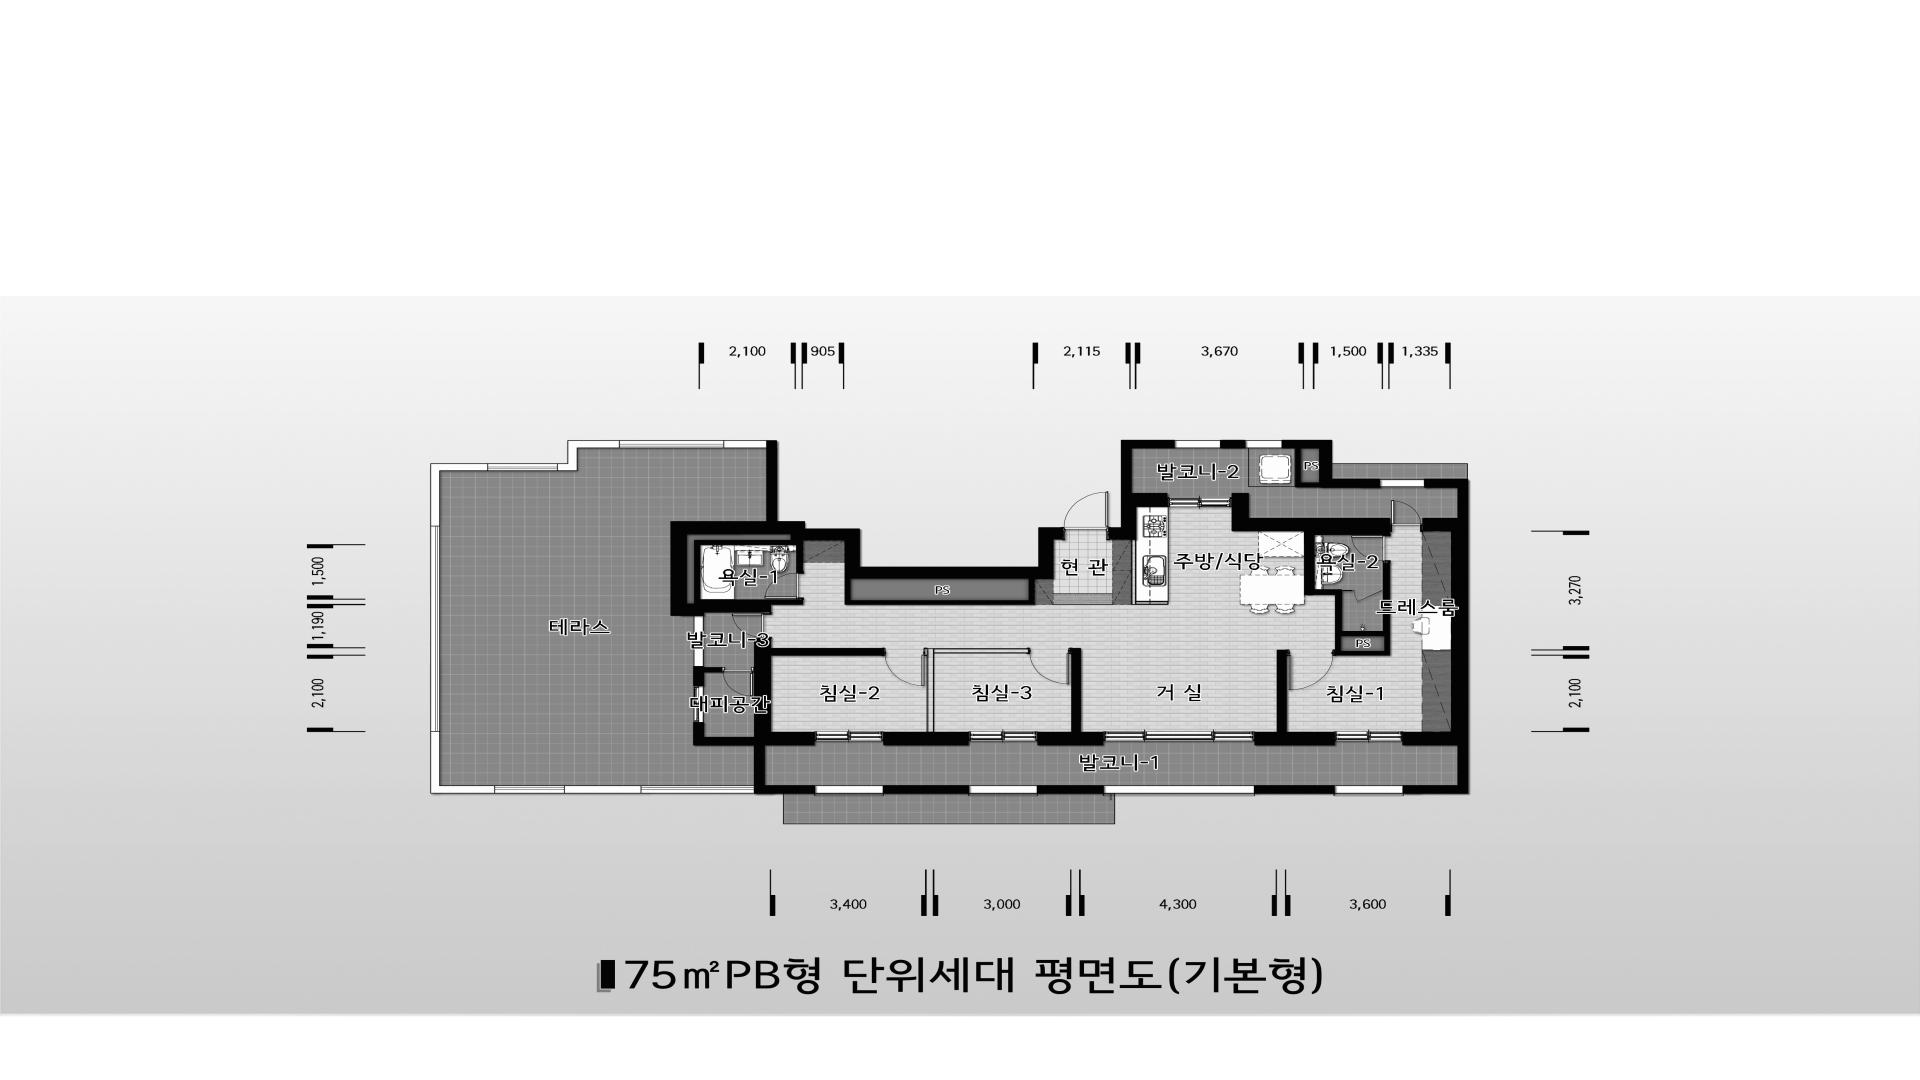door: (1062, 491, 1108, 539), (1287, 650, 1334, 690), (884, 647, 927, 686), (1028, 647, 1071, 686), (732, 612, 772, 639), (764, 573, 803, 599), (1391, 500, 1422, 532), (1351, 535, 1389, 561), (721, 667, 754, 696)
wall: (670, 521, 1062, 616), (1231, 492, 1391, 656), (1403, 478, 1468, 794), (883, 648, 1028, 746), (753, 639, 884, 737), (1403, 518, 1457, 746), (693, 722, 815, 794), (694, 539, 803, 613), (1255, 649, 1335, 746), (1108, 440, 1174, 539), (1037, 648, 1103, 746), (844, 578, 1035, 605), (1282, 440, 1380, 488), (1131, 539, 1169, 605), (1294, 448, 1319, 488), (883, 785, 969, 794), (1254, 785, 1334, 794), (765, 732, 815, 746), (1037, 785, 1103, 794), (1136, 493, 1168, 507), (1220, 440, 1245, 448), (693, 667, 704, 685), (704, 667, 722, 672)
window: (1103, 785, 1255, 796), (1103, 732, 1255, 742), (1334, 785, 1403, 796), (1334, 732, 1403, 742), (815, 731, 884, 741), (969, 732, 1038, 742), (1168, 497, 1231, 507), (969, 785, 1037, 794), (815, 785, 883, 793), (693, 616, 703, 667), (1380, 479, 1424, 488), (693, 685, 703, 722), (1174, 440, 1220, 448), (1245, 440, 1282, 448)
